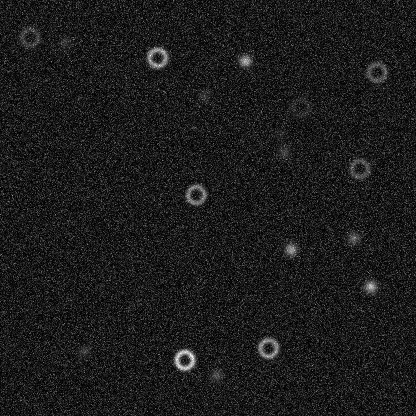Ring: (364, 60, 388, 84), (256, 335, 280, 359), (172, 347, 196, 371), (288, 95, 312, 119), (183, 182, 207, 206), (17, 25, 41, 49), (347, 156, 371, 180), (145, 45, 169, 69)
Spot: (76, 343, 92, 359), (271, 125, 287, 141), (275, 143, 291, 159), (283, 241, 299, 257), (362, 278, 378, 294), (196, 87, 212, 103), (345, 230, 361, 246), (208, 367, 224, 383), (237, 52, 253, 68), (57, 33, 73, 49)
